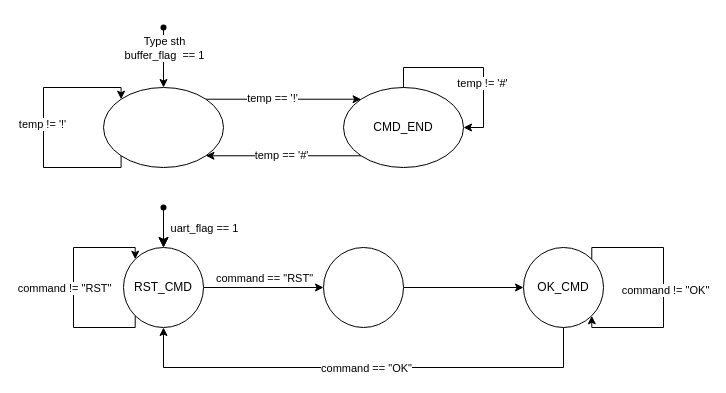
The diagram is 726 pixels wide and 393 high, and some of its shapes have lost their labels. The box of each missing label's shape, as (x1, y1, x2, y2) in pixels:
CMD_STR: (102, 86, 224, 168)
SEND_ADC: (322, 246, 404, 328)
